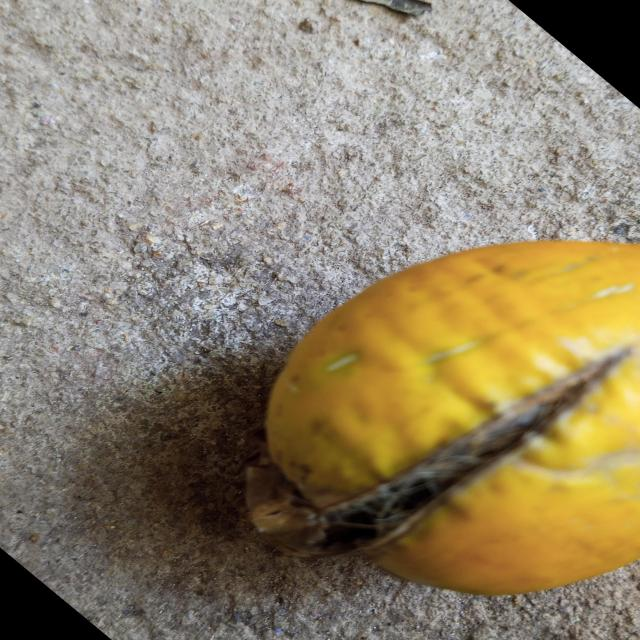damaged: (257, 240, 640, 599)
